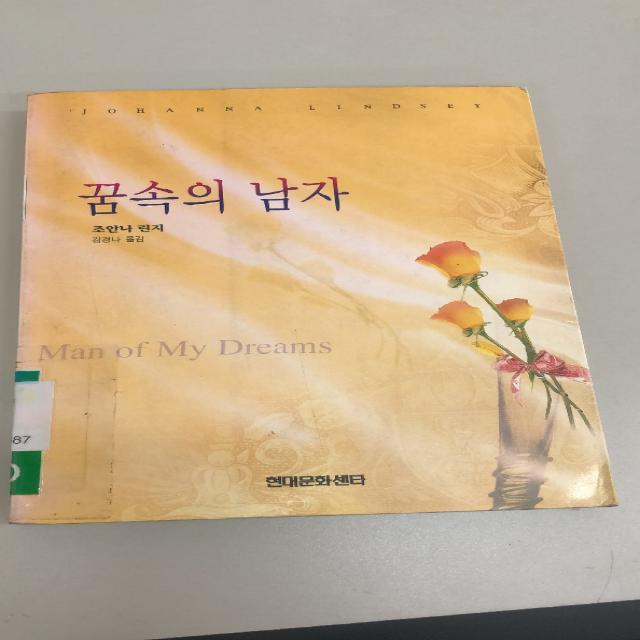Ripped: (16, 168, 32, 222)
Wornout: (351, 79, 532, 100), (6, 510, 173, 529), (468, 499, 626, 513), (20, 85, 90, 103)
